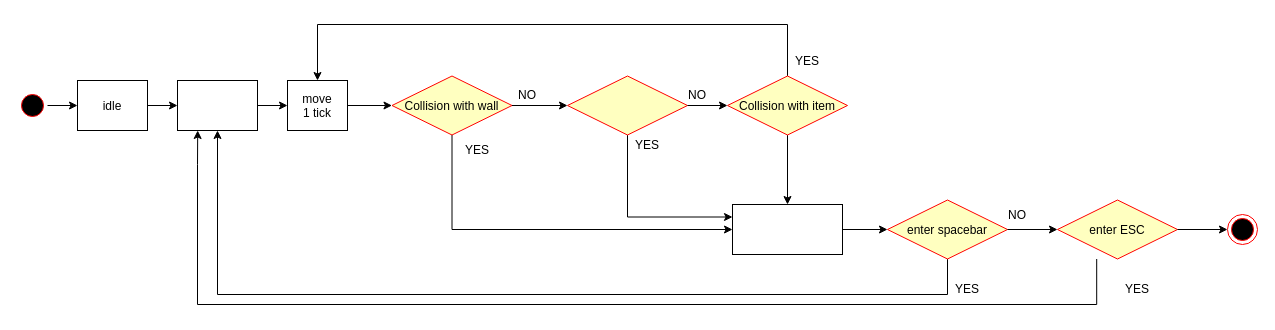
This 1275x330 diagram has some shape labels left out. Here are the shapes that lost their labels. From the top down, the centre of each, then its label:
the point at 217,105: Start Game
the point at 627,105: Collision with taill
the point at 787,229: game end
